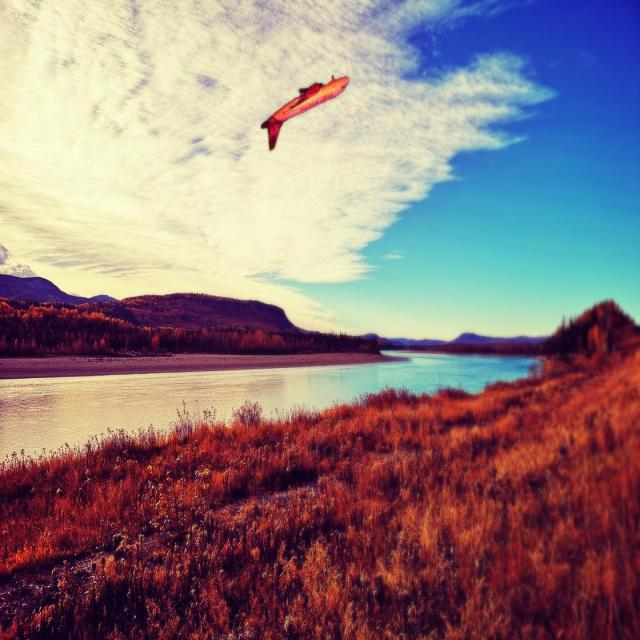airplane: (260, 74, 349, 150)
